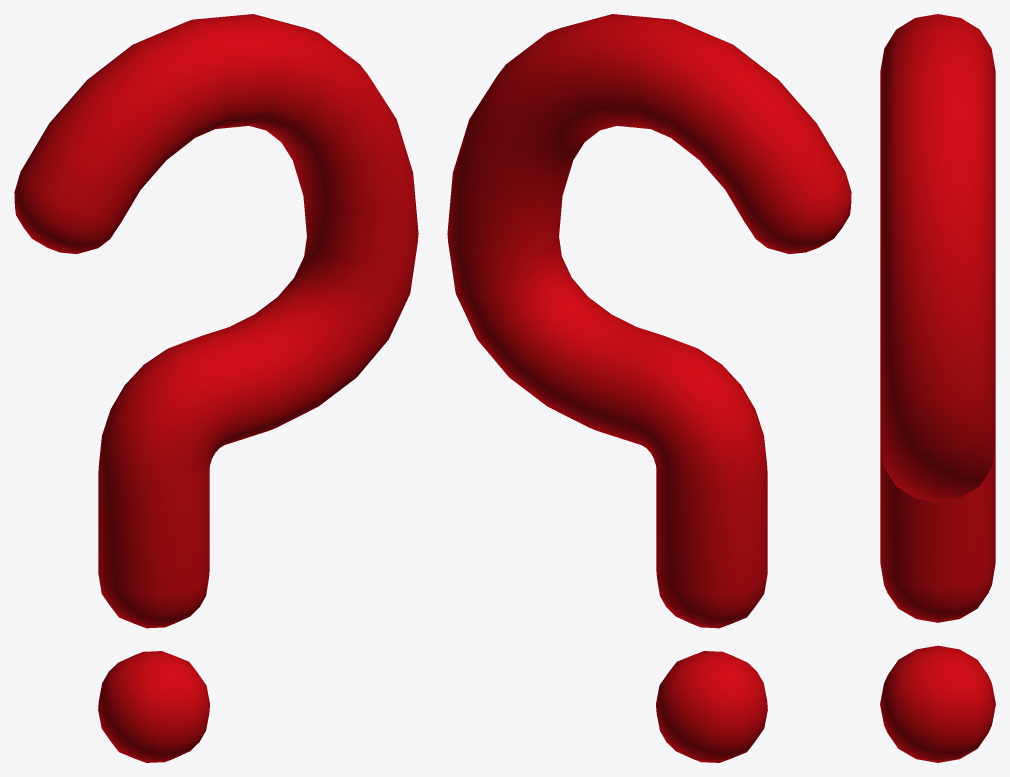
The model's file is SignsQ.fbx.
The picture shows the model from 3 angles, left to right: view 1: azimuth 30°, elevation 25°; view 2: azimuth 150°, elevation 25°; view 3: azimuth 270°, elevation 25°; orthographic projection. The views are drawn at different scales.
Visible parts, largest first — view 1: Q, Dot; view 2: Q, Dot; view 3: Q, Dot.
Part boxes in pixels (x1,y1,x2,y2): Q: (14, 14, 418, 628); Dot: (98, 651, 209, 762); Q: (447, 14, 851, 628); Dot: (656, 651, 767, 762); Q: (880, 14, 995, 622); Dot: (880, 645, 995, 762).
Size of the model in its own units: 35.31 by 62.59 by 8.77.
